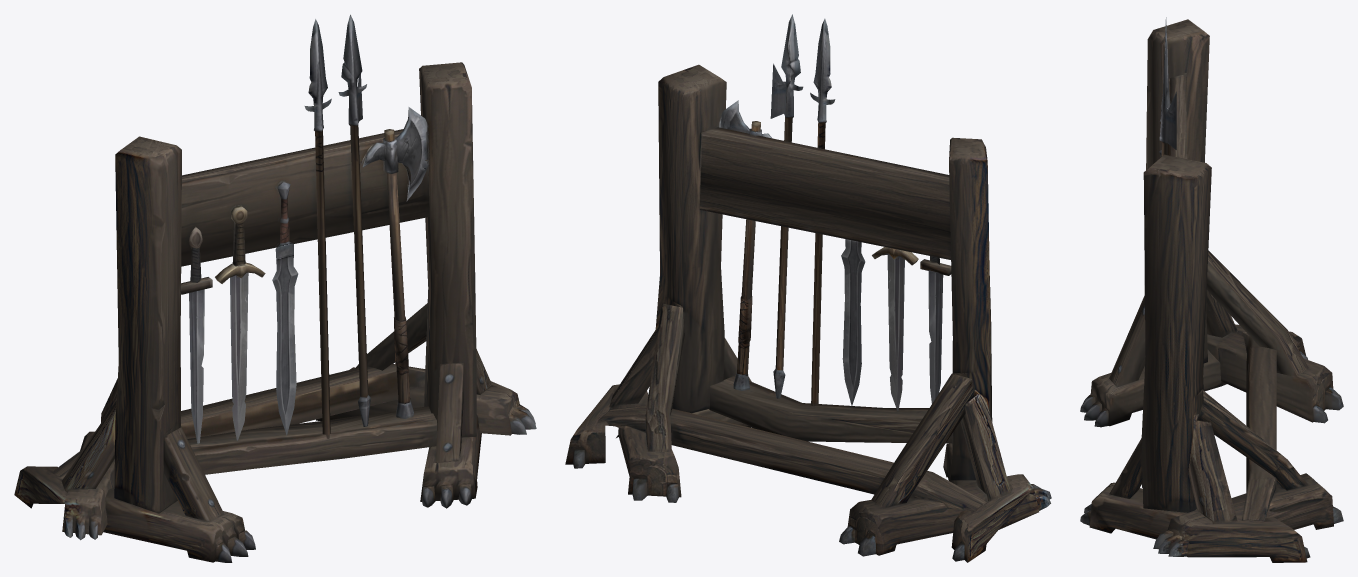
Rendered from rastrelliera.fbx.
3 views of the same model, side by side, from view 1: azimuth 30°, elevation 25°; view 2: azimuth 150°, elevation 25°; view 3: azimuth 270°, elevation 25° (orthographic). The views are drawn at different scales.
Parts seen in each view (by area): view 1: tripo_node_bf4ac304; view 2: tripo_node_bf4ac304; view 3: tripo_node_bf4ac304.
Boxes of the visible parts, x1,y1,x2,y2 form: tripo_node_bf4ac304: (14, 14, 536, 562); tripo_node_bf4ac304: (565, 14, 1051, 562); tripo_node_bf4ac304: (1080, 17, 1343, 562).
Size of the model in its own units: 0.9995 by 0.9849 by 0.5142.
1 material, 1 textured.
